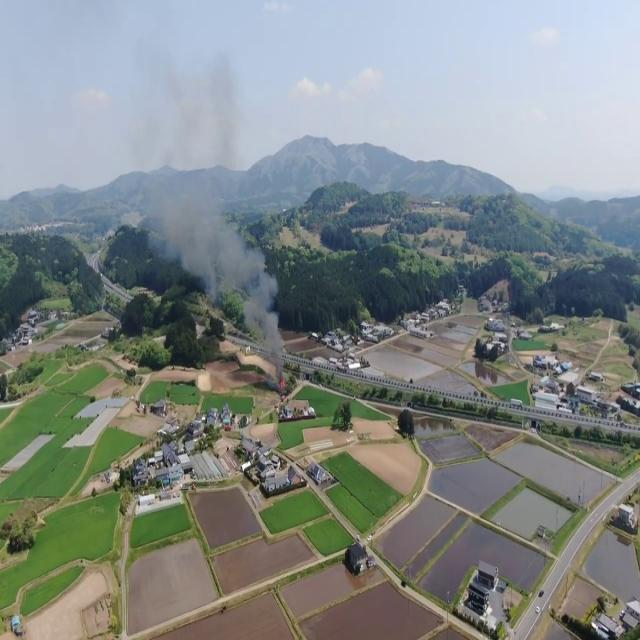Smoke: (142, 36, 286, 360)
